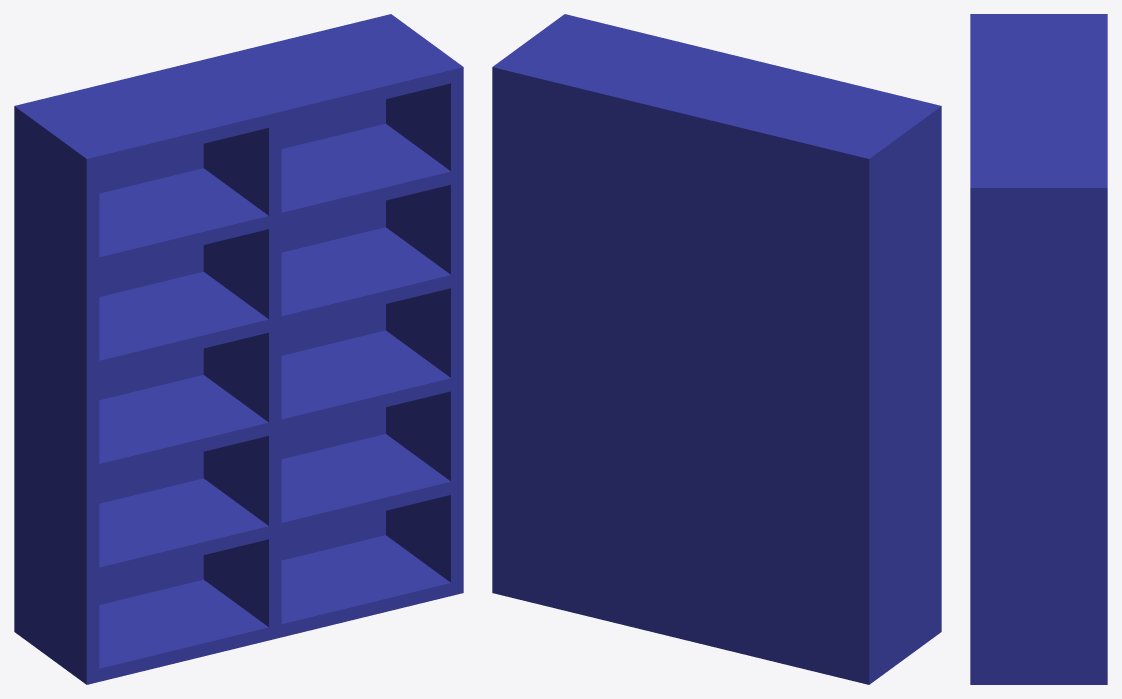
File: storageE_1x4x3.FBX
3 views of the same model, side by side, from view 1: azimuth 30°, elevation 25°; view 2: azimuth 150°, elevation 25°; view 3: azimuth 270°, elevation 25° (orthographic). The views are drawn at different scales.
Parts seen in each view (by area): view 1: storageE_1x4x3; view 2: storageE_1x4x3; view 3: storageE_1x4x3.
Part boxes in pixels (x1=…): storageE_1x4x3: x1=14, y1=14, x2=463, y2=684; storageE_1x4x3: x1=492, y1=14, x2=941, y2=684; storageE_1x4x3: x1=970, y1=14, x2=1107, y2=684.
Bounding box in the file's own units: 3 × 4 × 1.
